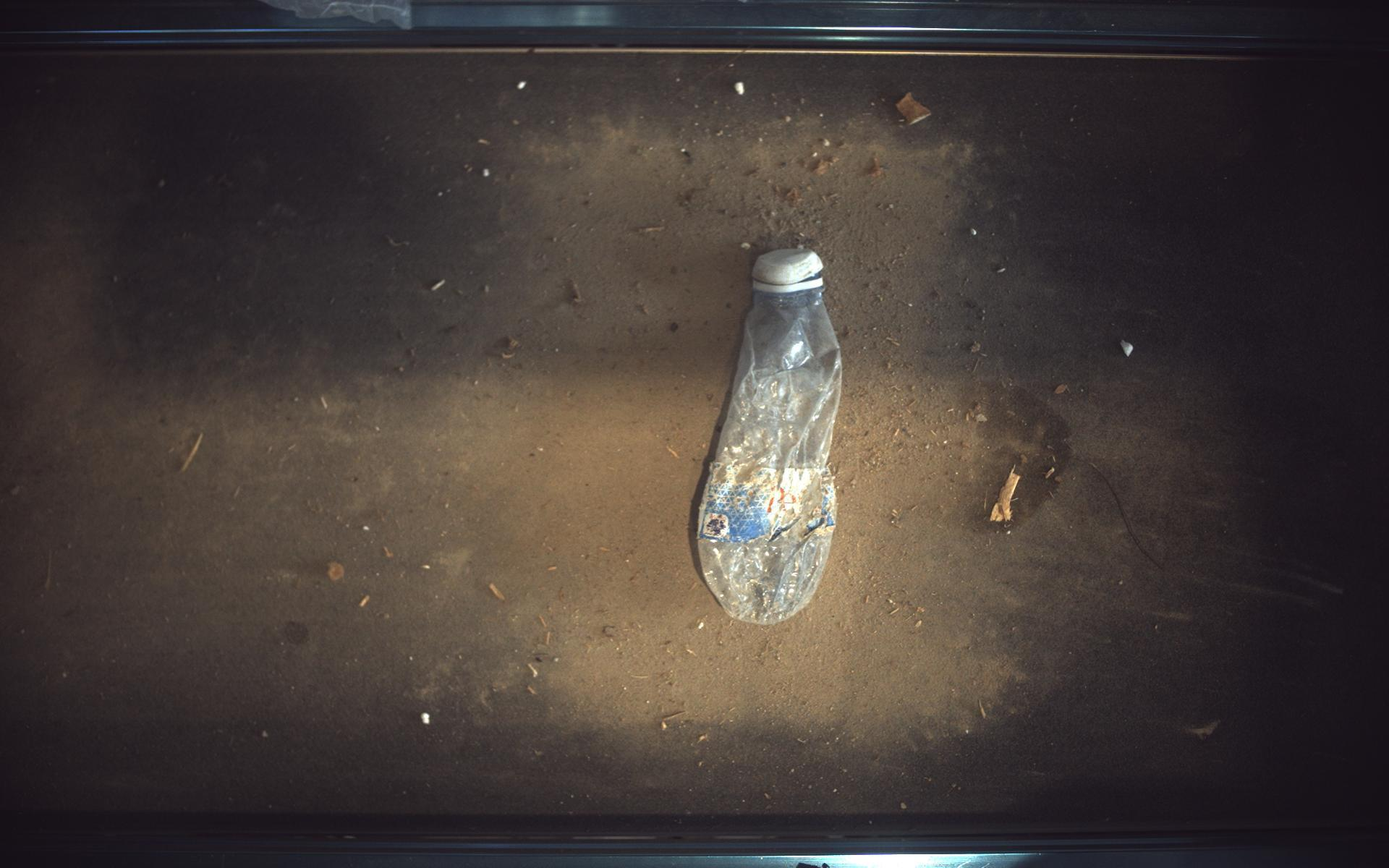general_w: (698, 248, 843, 625)
